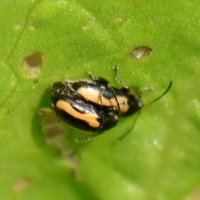insect: (51, 67, 142, 133)
